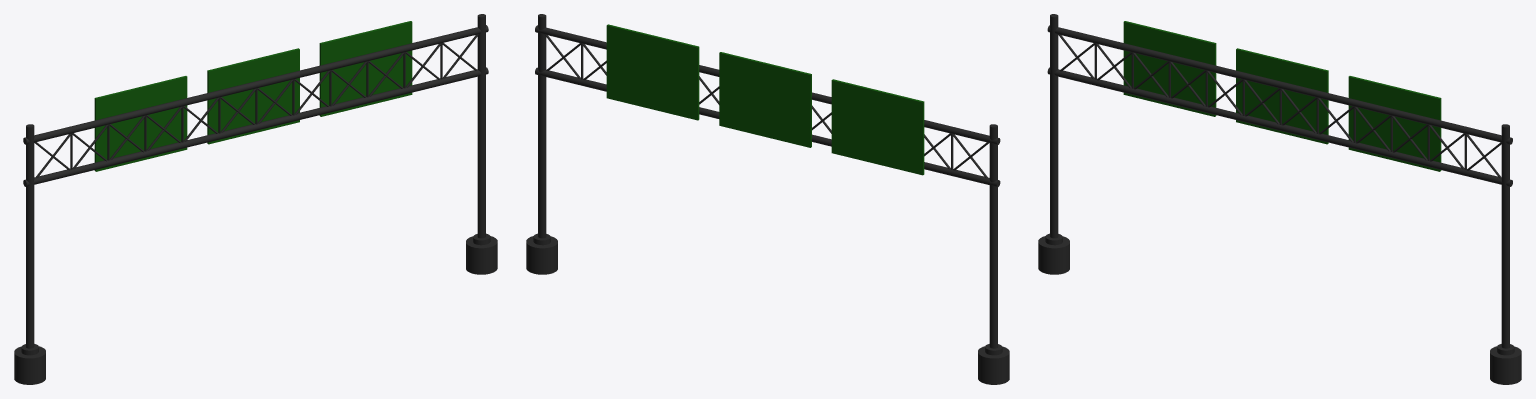
Rendered from HighwaySign_M_v1_Carrie.FBX.
The picture shows the model from 3 angles, left to right: view 1: azimuth 30°, elevation 25°; view 2: azimuth 150°, elevation 25°; view 3: azimuth 330°, elevation 25°; orthographic projection.
Parts seen in each view (by area): view 1: HighwaySign_Main, HighwaySign_Board; view 2: HighwaySign_Board, HighwaySign_Main; view 3: HighwaySign_Main, HighwaySign_Board.
Boxes of the visible parts, left/top/right/bottom form: HighwaySign_Main: left=14, top=14, right=497, bottom=384; HighwaySign_Board: left=94, top=21, right=412, bottom=171; HighwaySign_Board: left=606, top=24, right=924, bottom=175; HighwaySign_Main: left=526, top=14, right=1009, bottom=384; HighwaySign_Main: left=1038, top=14, right=1521, bottom=384; HighwaySign_Board: left=1123, top=21, right=1441, bottom=171.
Bounding box in the file's own units: 2929 × 1526 × 166.
